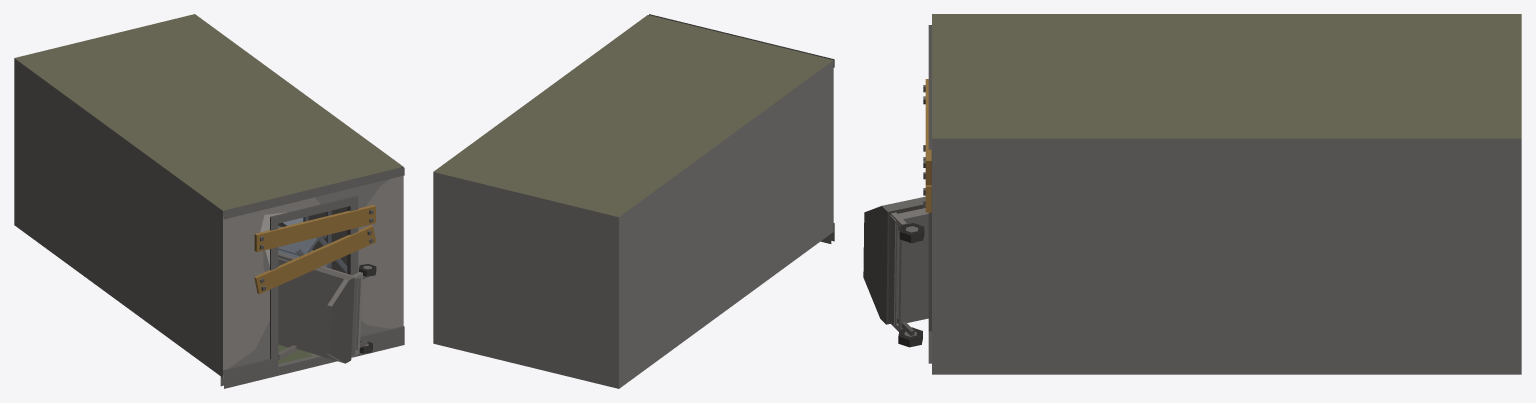
Rendered from AI_Env_Wall_Grey_BlockedDoor_03.fbx.
3 renders of one model, left to right at view 1: azimuth 30°, elevation 25°; view 2: azimuth 150°, elevation 25°; view 3: azimuth 270°, elevation 25°, orthographic. The views are drawn at different scales.
Parts seen in each view (by area): view 1: AI_Env_Wall_Grey_BlockedDoor_03; view 2: AI_Env_Wall_Grey_BlockedDoor_03; view 3: AI_Env_Wall_Grey_BlockedDoor_03.
Boxes of the visible parts, box(x1,y1,x2,y2) form: AI_Env_Wall_Grey_BlockedDoor_03: box(14, 14, 404, 388); AI_Env_Wall_Grey_BlockedDoor_03: box(433, 14, 834, 388); AI_Env_Wall_Grey_BlockedDoor_03: box(863, 14, 1521, 374).
Size of the model in its own units: 5 by 4.89 by 11.16.
